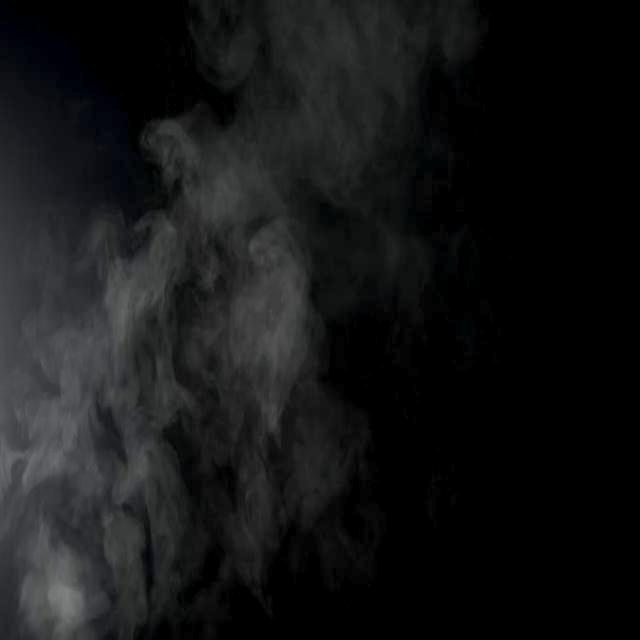smoke: (5, 364, 137, 640), (118, 262, 256, 470), (158, 116, 288, 294), (143, 444, 242, 568)
